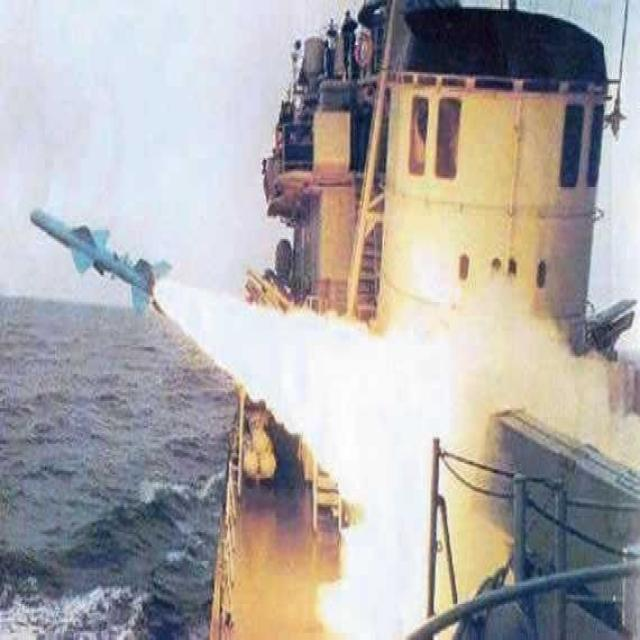missile: (26, 200, 160, 312)
